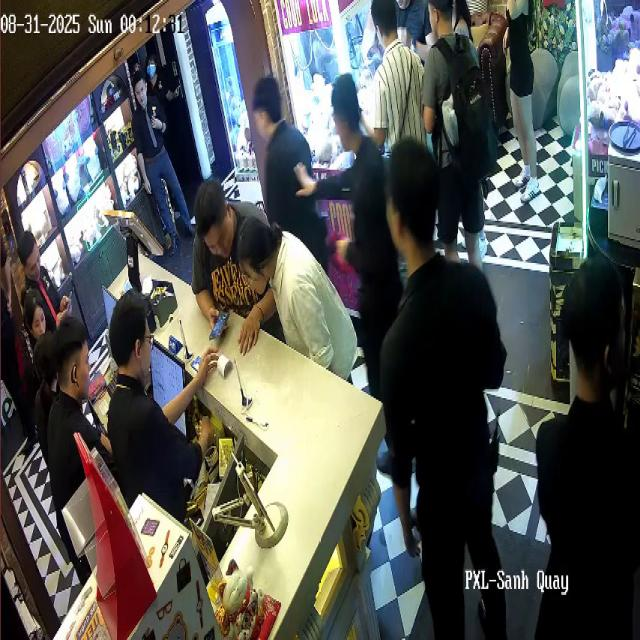khach: (424, 6, 496, 281), (235, 198, 342, 374), (366, 0, 432, 191), (192, 158, 256, 337), (494, 0, 547, 210)
nhan vien: (379, 133, 525, 625), (532, 246, 640, 640), (293, 48, 393, 385), (103, 292, 220, 568), (252, 56, 328, 284), (52, 322, 116, 544), (12, 219, 95, 367), (130, 76, 194, 258), (17, 273, 53, 424), (143, 52, 185, 152)
